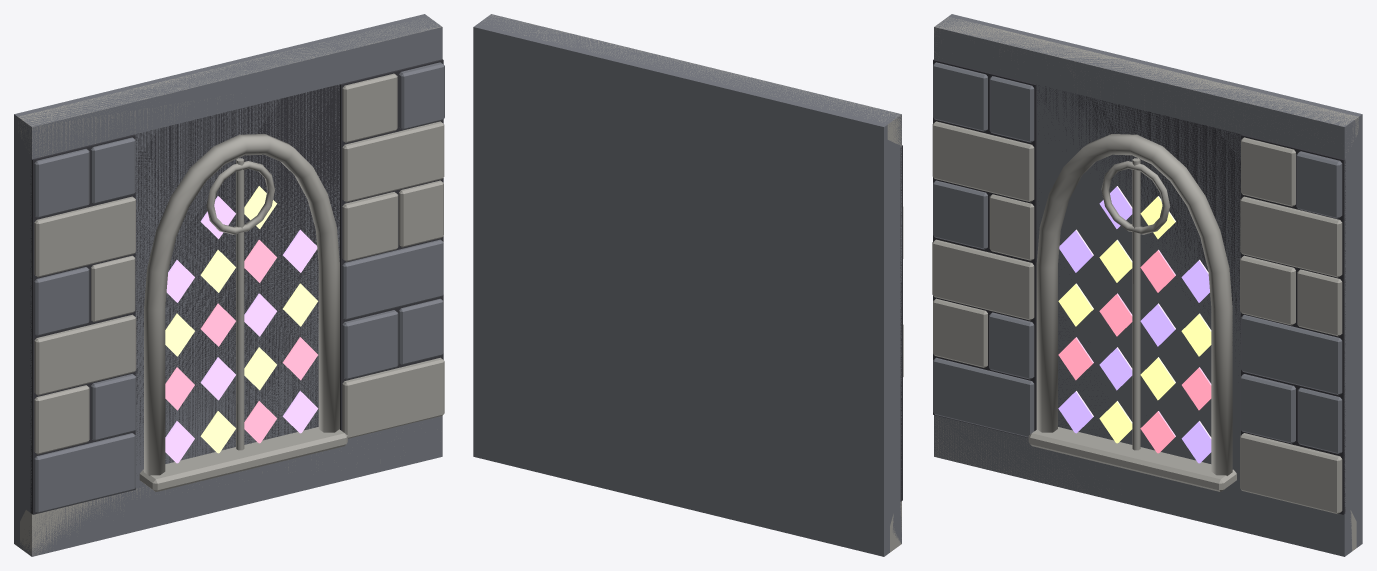
File: wall_cr_arch.glb
The picture shows the model from 3 angles, left to right: view 1: azimuth 30°, elevation 25°; view 2: azimuth 150°, elevation 25°; view 3: azimuth 330°, elevation 25°; orthographic projection.
Parts seen in each view (by area): view 1: wall_cr_arch; view 2: wall_cr_arch; view 3: wall_cr_arch.
Part boxes in pixels (x1=…): wall_cr_arch: x1=14, y1=14, x2=444, y2=556; wall_cr_arch: x1=473, y1=14, x2=903, y2=556; wall_cr_arch: x1=932, y1=14, x2=1362, y2=556.
Bounding box in the file's own units: 4 × 4 × 0.55.
